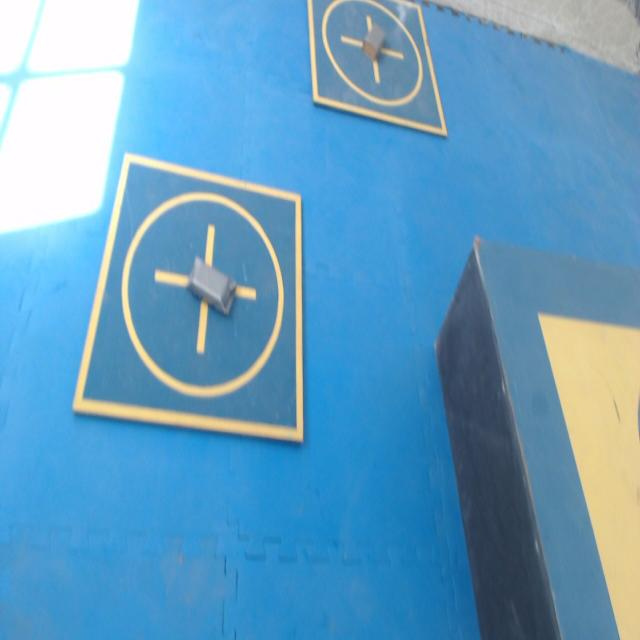direita: (362, 23, 384, 60)
esquerda: (188, 257, 236, 315)
